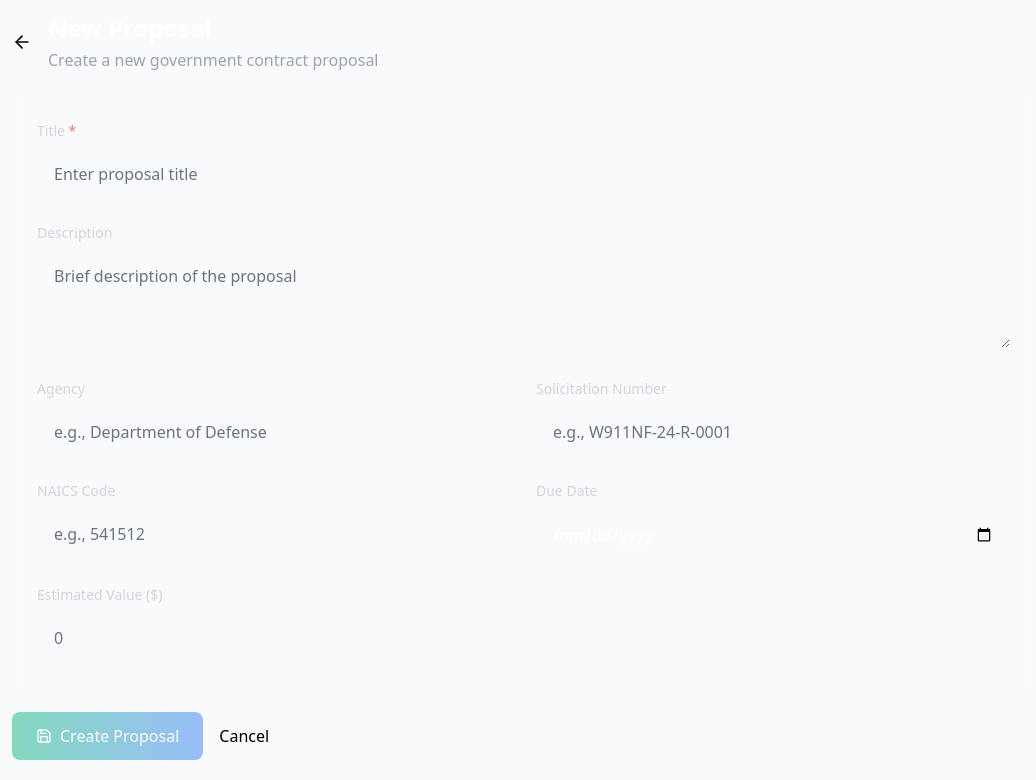
Scenario: NewProposalPage › shows error when no org selected
The width and height of the screenshot is (1036, 780).
Type "Test" into the field with placeholder "Enter proposal title".
click(524, 174); type("Test")  # box [37,149,1011,199]
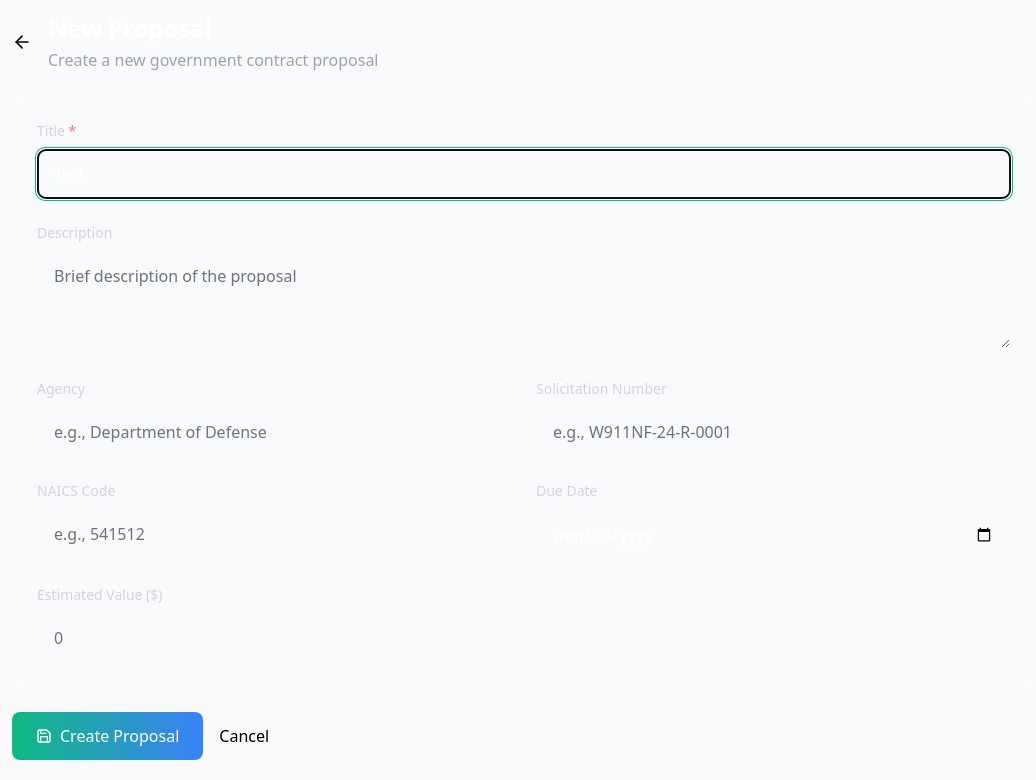
Click the button "Create Proposal".
click(108, 736)  # box [12,712,203,760]
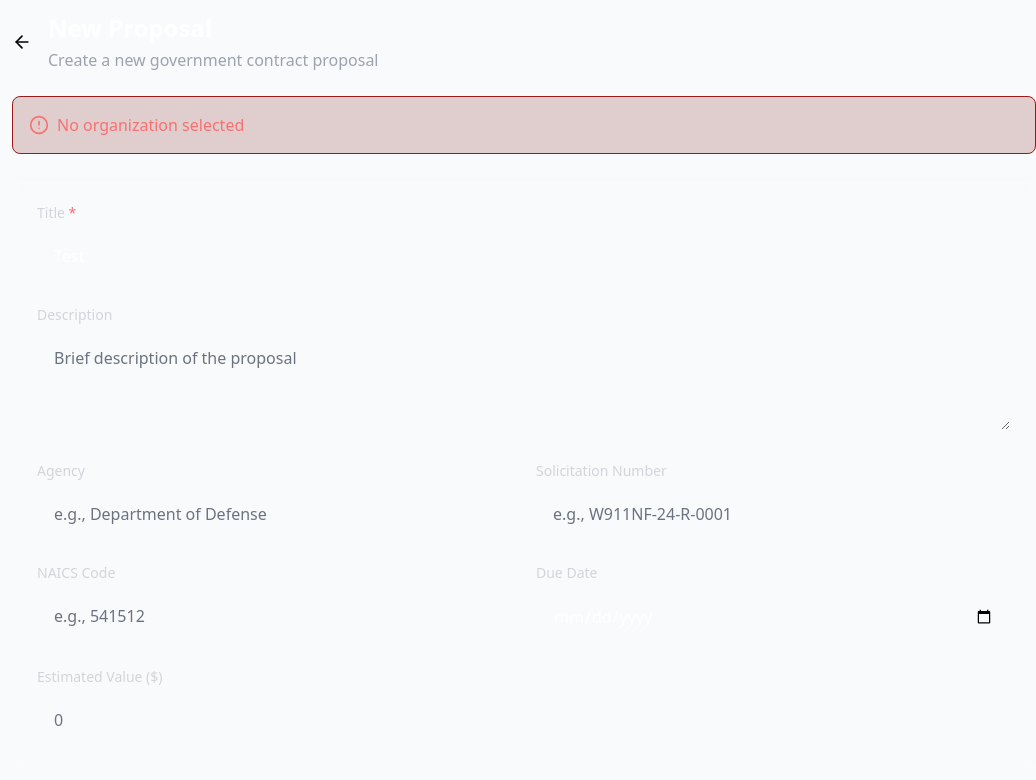
expect the text "No organization selected" is shown: met, box [12,96,1035,154]
